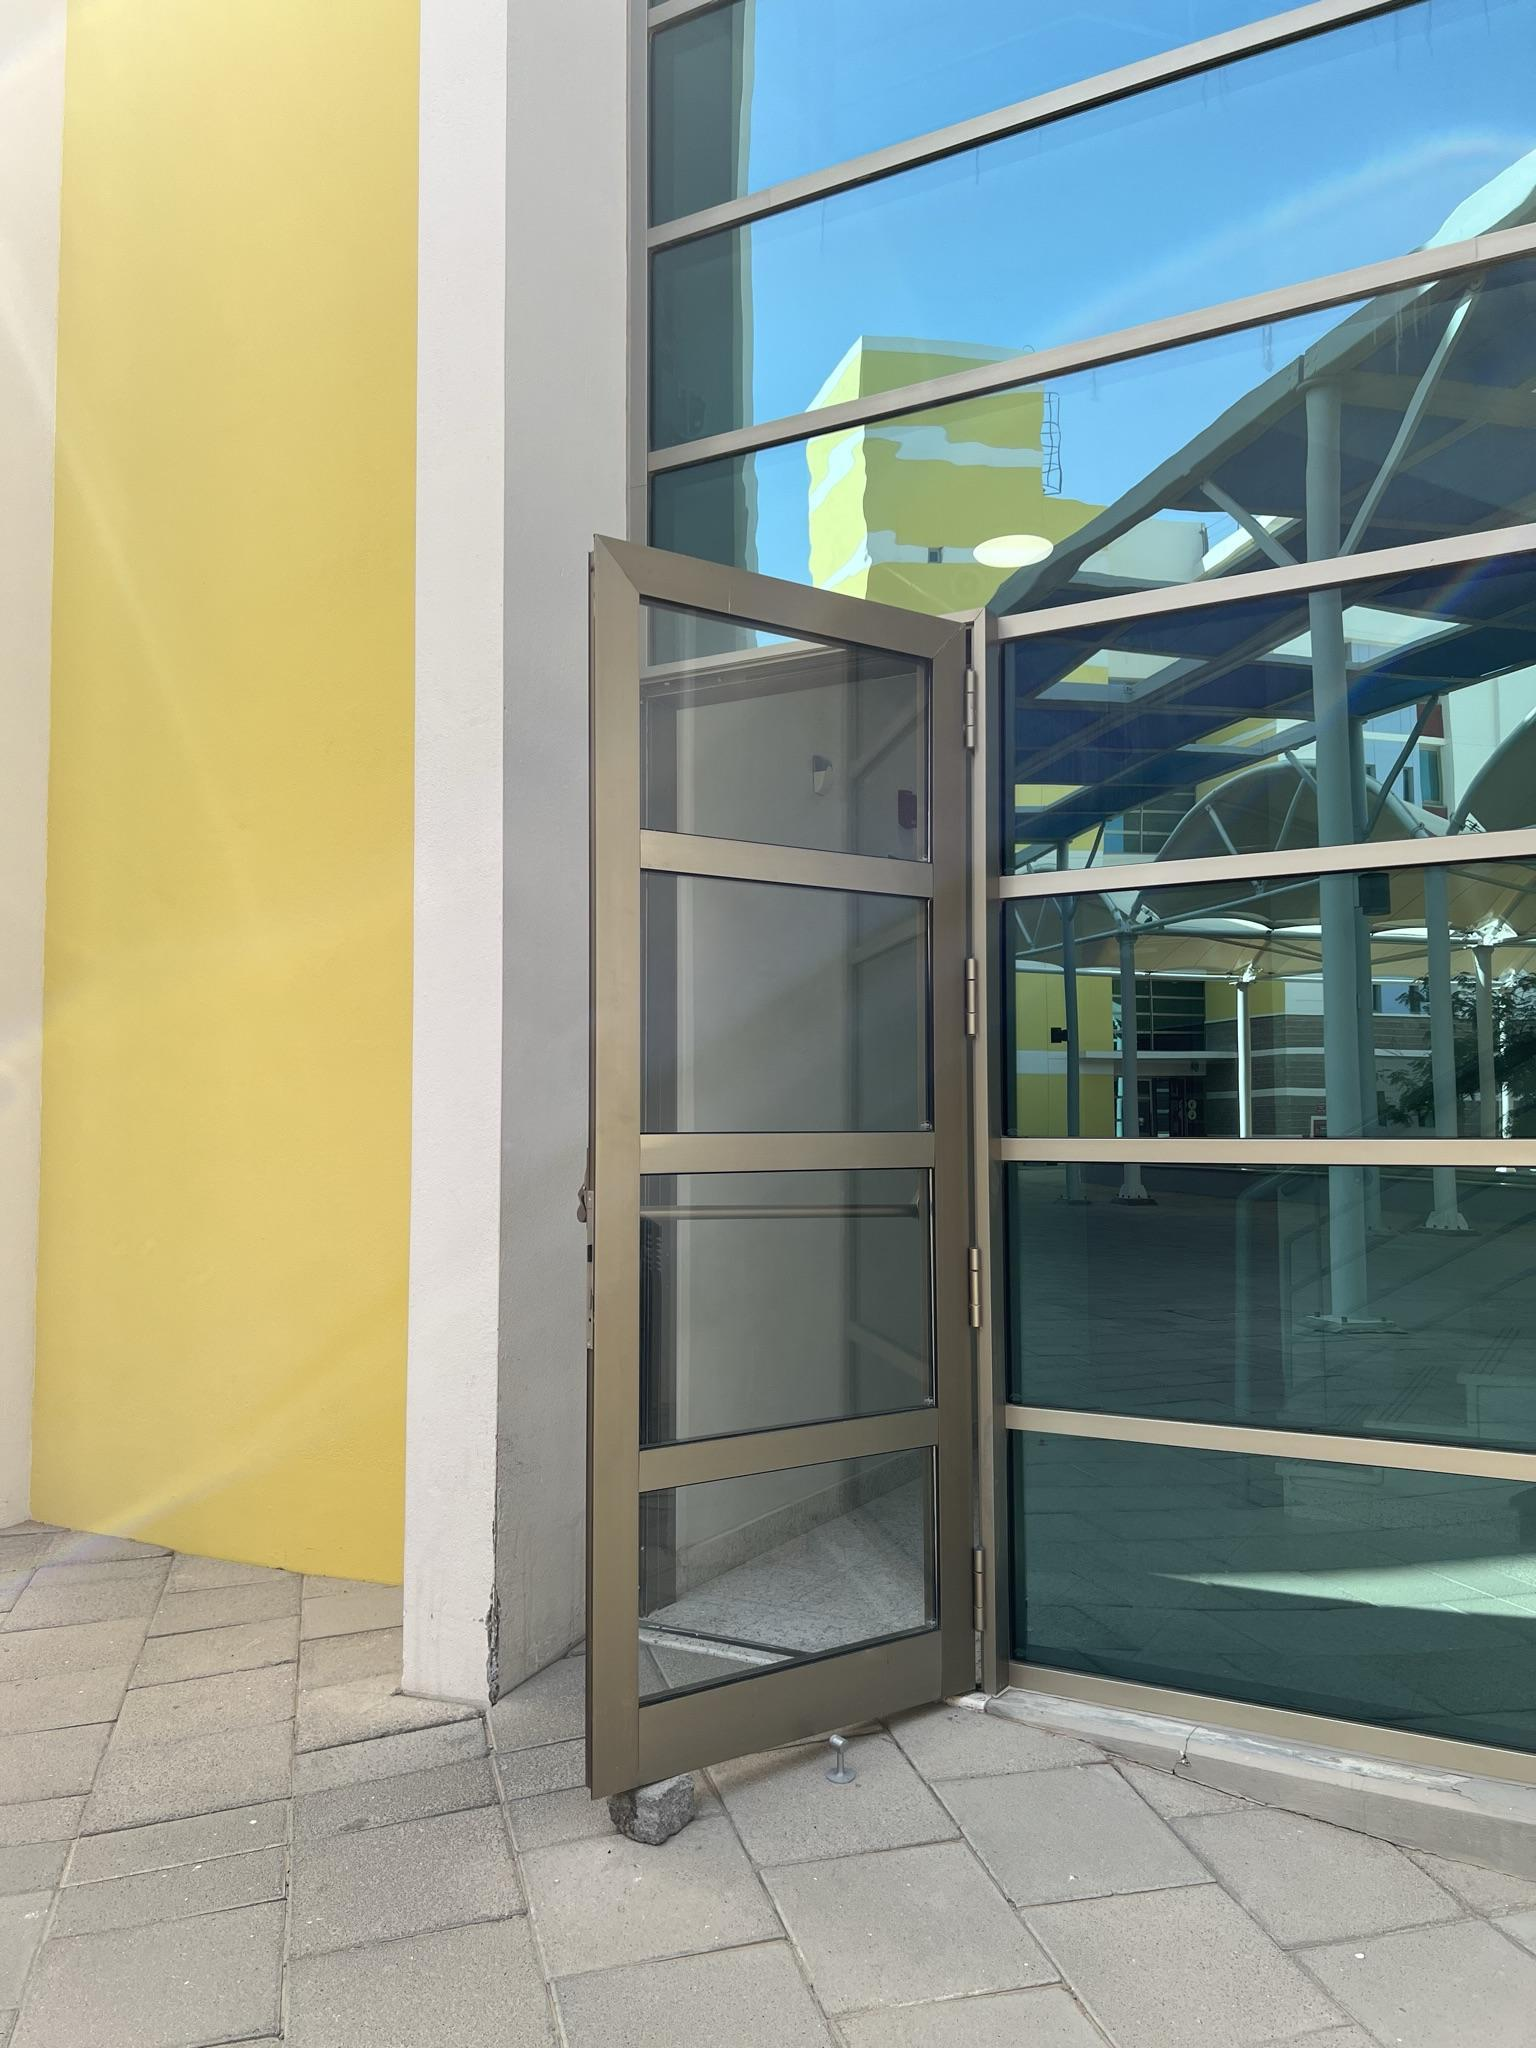door: (579, 581, 989, 1774)
